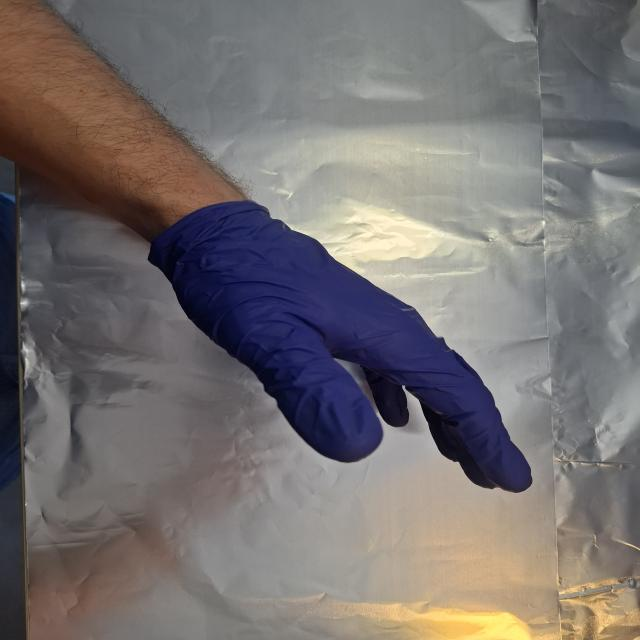glove_on: (159, 208, 537, 497)
